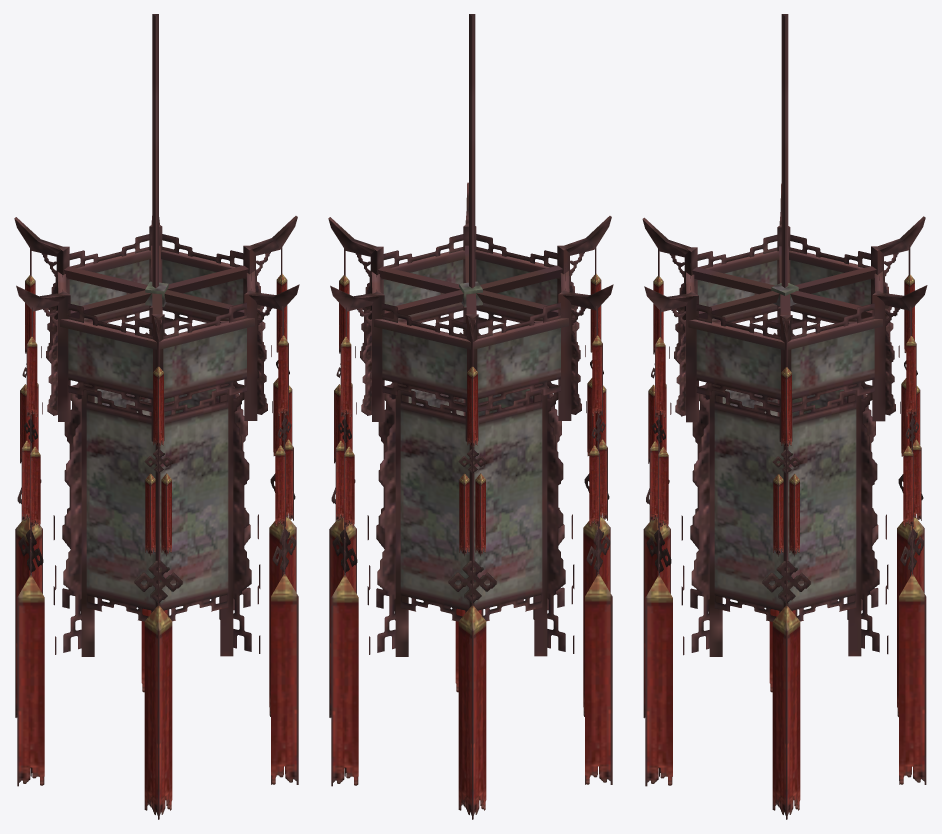
The picture shows the model from 3 angles, left to right: view 1: azimuth 30°, elevation 25°; view 2: azimuth 150°, elevation 25°; view 3: azimuth 270°, elevation 25°; orthographic projection.
Visible parts, largest first — view 1: qingmo_obj_279 [10484711]; view 2: qingmo_obj_279 [10484711]; view 3: qingmo_obj_279 [10484711].
Part boxes in pixels (left/top/right/bottom): qingmo_obj_279 [10484711]: left=14, top=14, right=299, bottom=819; qingmo_obj_279 [10484711]: left=328, top=14, right=613, bottom=819; qingmo_obj_279 [10484711]: left=642, top=14, right=927, bottom=819.
Size of the model in its own units: 7.37 by 6.47 by 18.43.
1 material, 1 textured.
